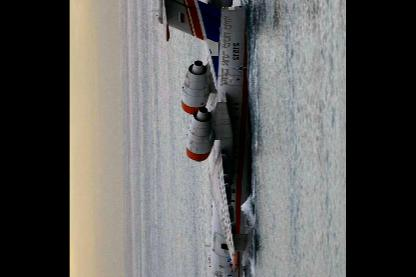B52: (150, 0, 257, 276)
